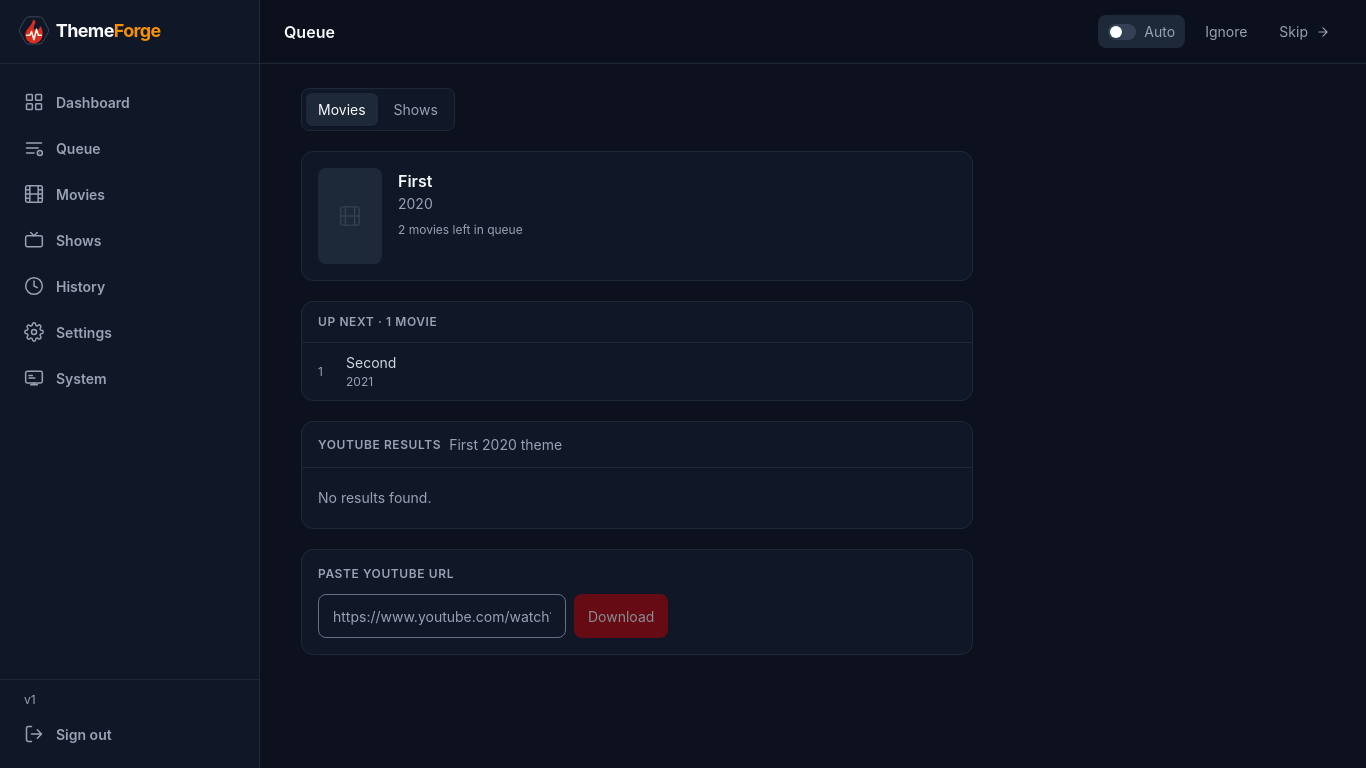
Test: an action that fails does not report success › the queue Ignore button says so and does not advance when the ignore fails
Expected: the text "2 movies left in queue" is shown, [398,222,523,237]
Click the button "Ignore" at (1226, 32), box [1193,14,1259,50]
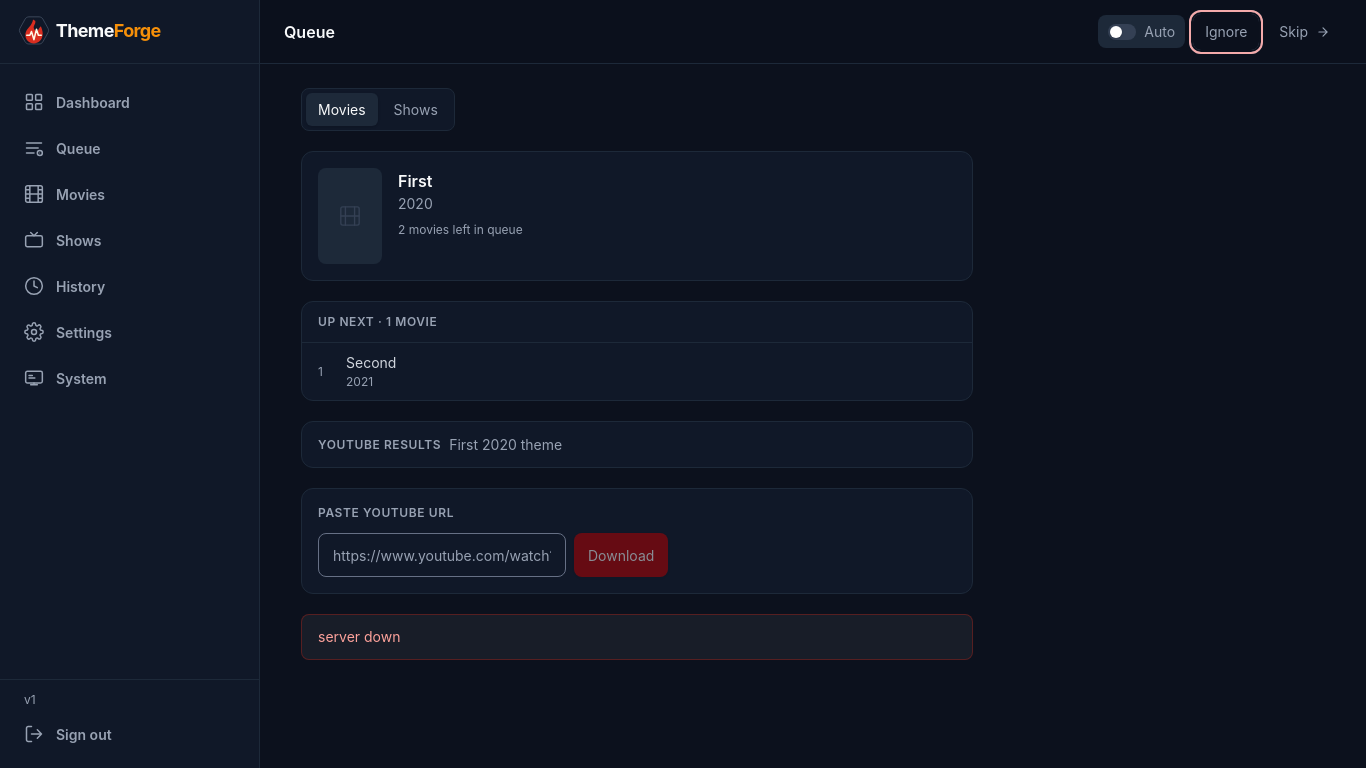
Expected: the text "2 movies left in queue" is shown, [398,222,523,237]
Expected: the text "server down" is shown, [318,628,400,645]
